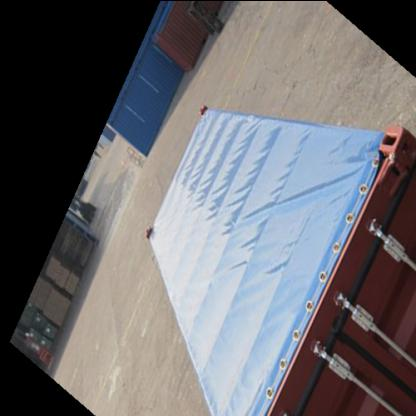Damage: (380, 128, 408, 208), (319, 310, 355, 342)
